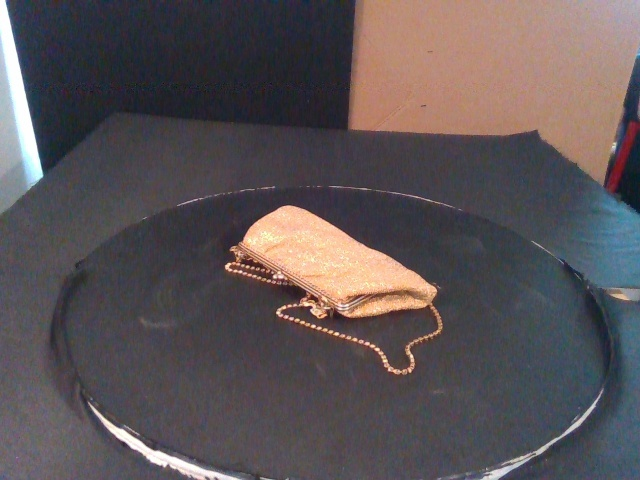bag: (236, 204, 438, 318)
